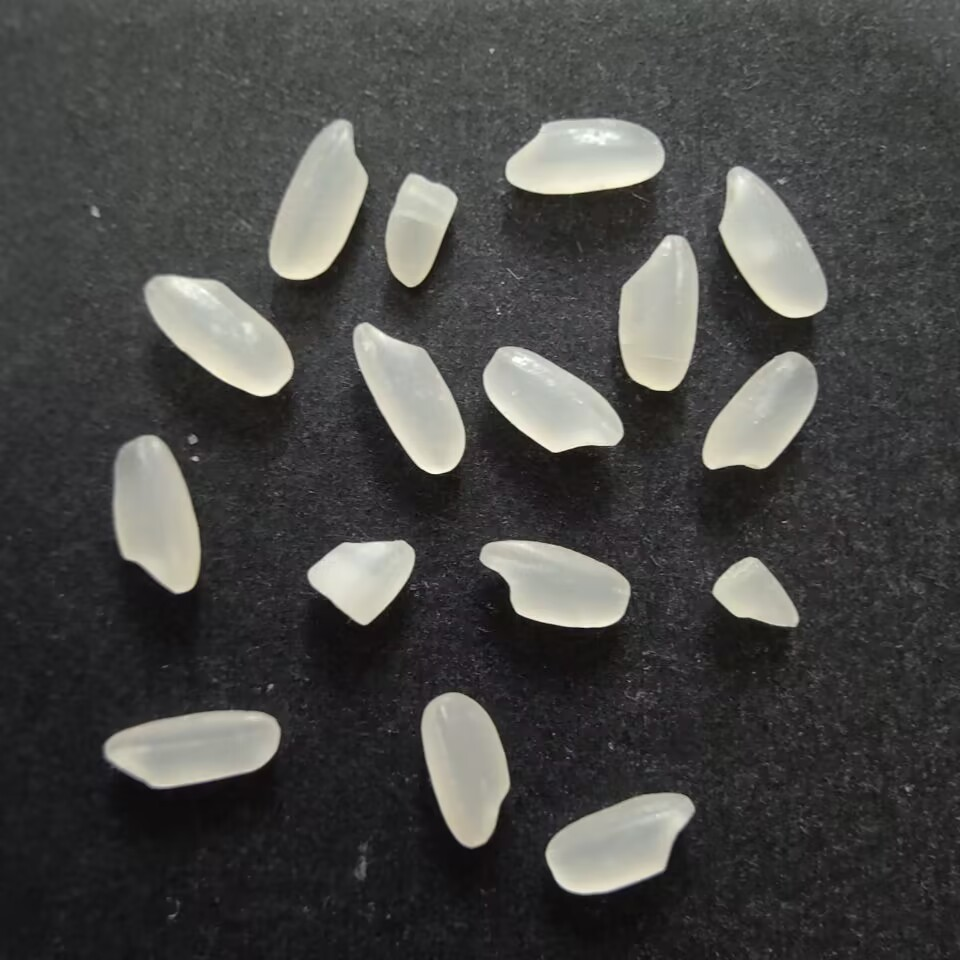broken: (302, 534, 422, 631), (381, 168, 461, 290), (706, 554, 801, 636)
rice: (136, 272, 298, 399), (348, 319, 468, 479), (715, 163, 831, 320), (267, 112, 372, 284), (480, 342, 625, 457), (541, 788, 695, 896), (106, 432, 205, 598), (698, 347, 822, 473), (99, 706, 282, 791), (419, 690, 515, 852), (477, 538, 635, 635), (496, 114, 667, 199), (614, 232, 701, 397)
